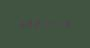one: (57, 19, 64, 27), (41, 20, 48, 27)
seven: (49, 19, 56, 27)
six: (65, 19, 72, 27)
two: (17, 20, 24, 28), (25, 20, 32, 28), (33, 20, 40, 28)
